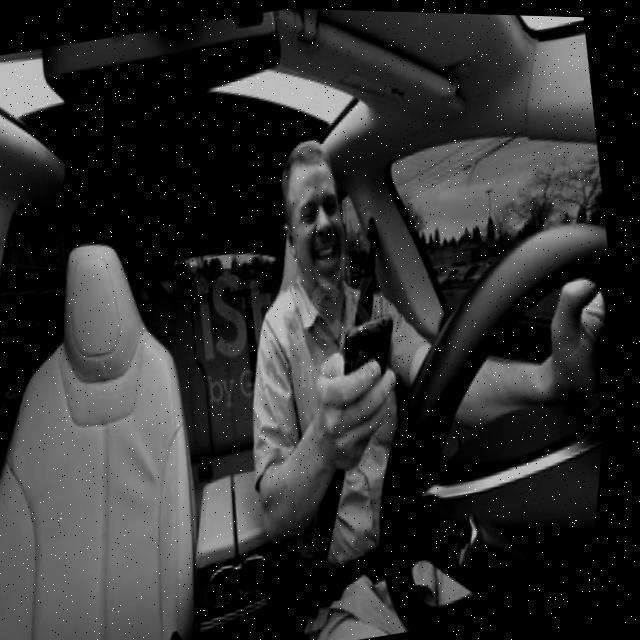PhoneCall: (340, 312, 418, 426)
